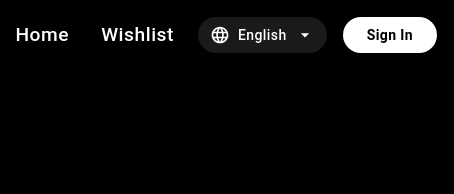
Navbar › opens language menu on button click
The width and height of the screenshot is (454, 194).
Click the button "English": (262, 35) [198, 17, 327, 53]
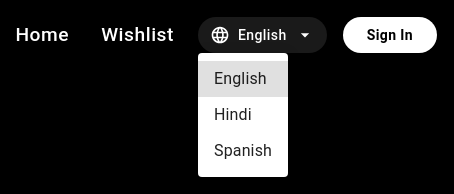
Expected: the menu item "Hindi" is shown, [214, 105, 252, 124]
Expected: the menu item "Spanish" is shown, [214, 141, 272, 160]
